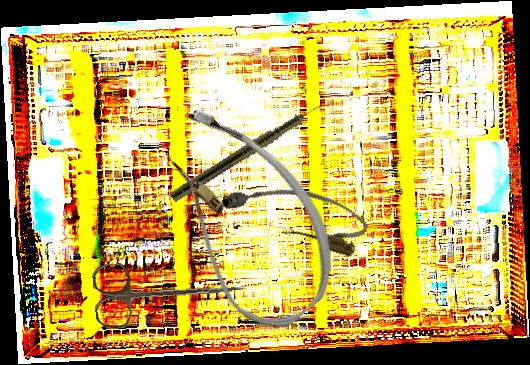Cannula: (121, 87, 366, 347), (217, 166, 373, 260)
Handpiece: (168, 95, 332, 206)
Iris Scissors: (91, 252, 246, 331)
